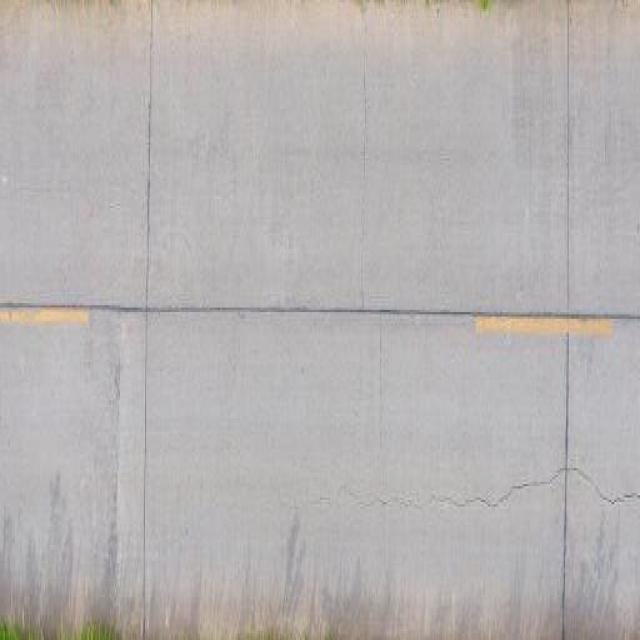Crack: (452, 431, 638, 538)
